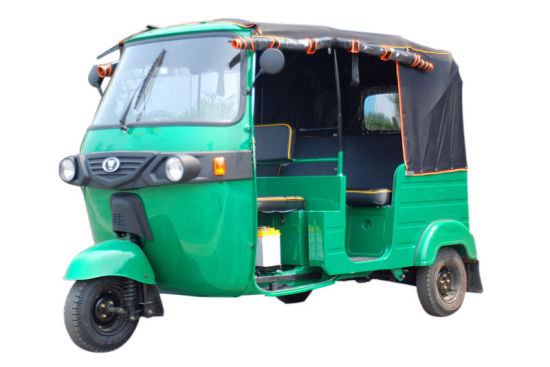threewheel: (58, 18, 482, 353)
